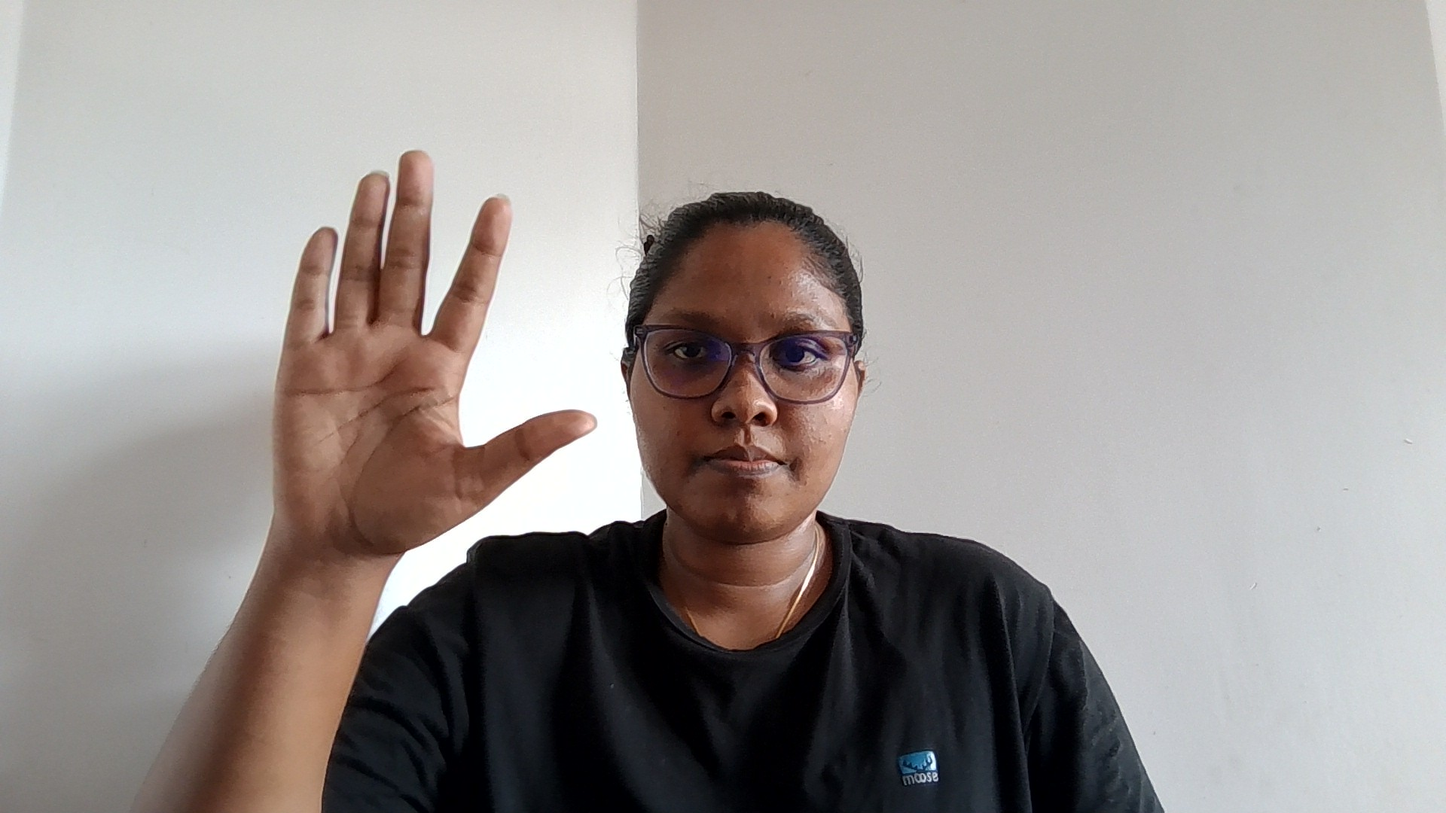Hello: (164, 53, 709, 569), (205, 40, 710, 522), (245, 115, 616, 644)
